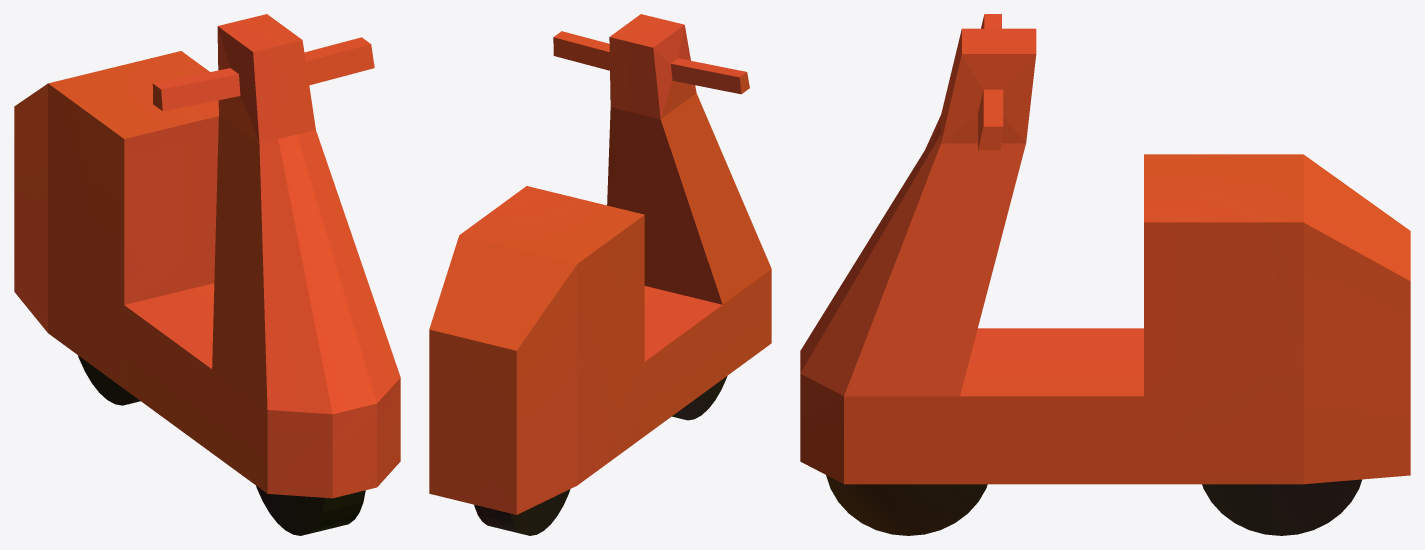
File: Motorcycle.fbx
3 renders of one model, left to right at view 1: azimuth 30°, elevation 25°; view 2: azimuth 150°, elevation 25°; view 3: azimuth 270°, elevation 25°, orthographic. The views are drawn at different scales.
Parts seen in each view (by area): view 1: Cube.010; view 2: Cube.010; view 3: Cube.010.
Part boxes in pixels (x1,y1,x2,y2): Cube.010: (14,14,400,535); Cube.010: (429,14,771,535); Cube.010: (800,14,1410,535).
Size of the model in its own units: 104 by 43.76 by 91.25.
